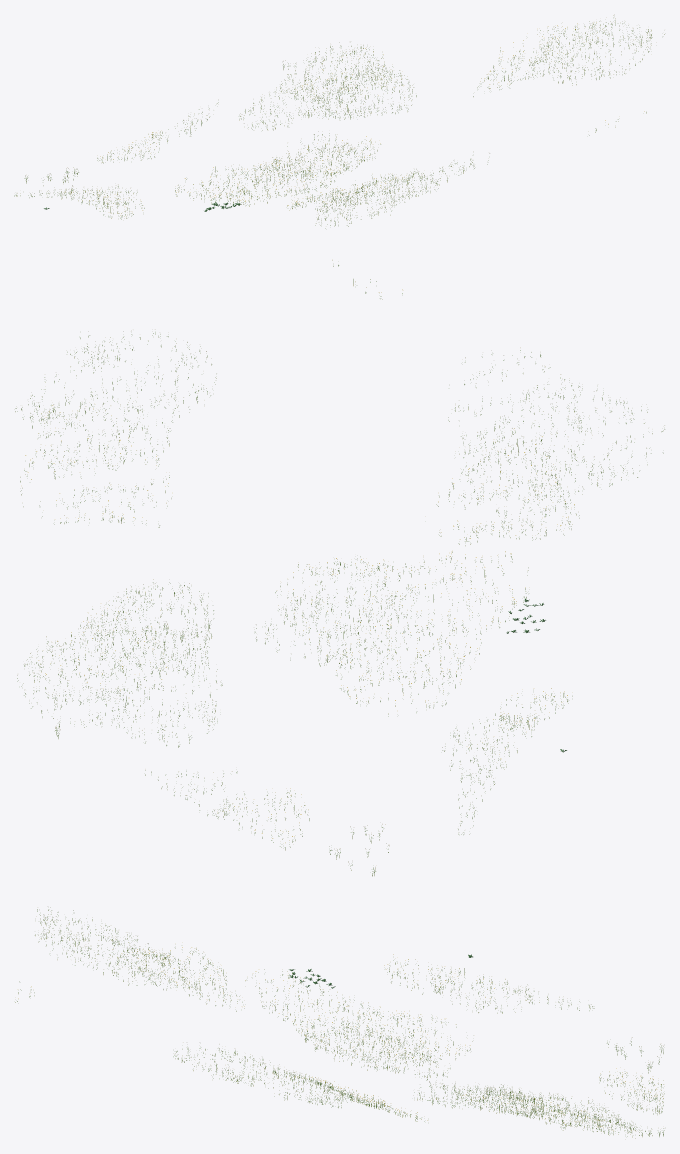
The model's file is GroundCover_16_21.glb.
3 views of the same model, one above another, from view 1: azimuth 30°, elevation 25°; view 2: azimuth 150°, elevation 25°; view 3: azimuth 270°, elevation 25° (orthographic). The views are drawn at different scales.
Parts seen in each view (by area): view 1: GroundCover_16_21; view 2: GroundCover_16_21; view 3: GroundCover_16_21.
Part boxes in pixels (<box>): GroundCover_16_21: <box>14,14,664,228</box>; GroundCover_16_21: <box>15,260,664,876</box>; GroundCover_16_21: <box>15,907,664,1138</box>.
Bounding box in the file's own units: 64.15 × 25.31 × 64.38.
1 material, 1 textured.
